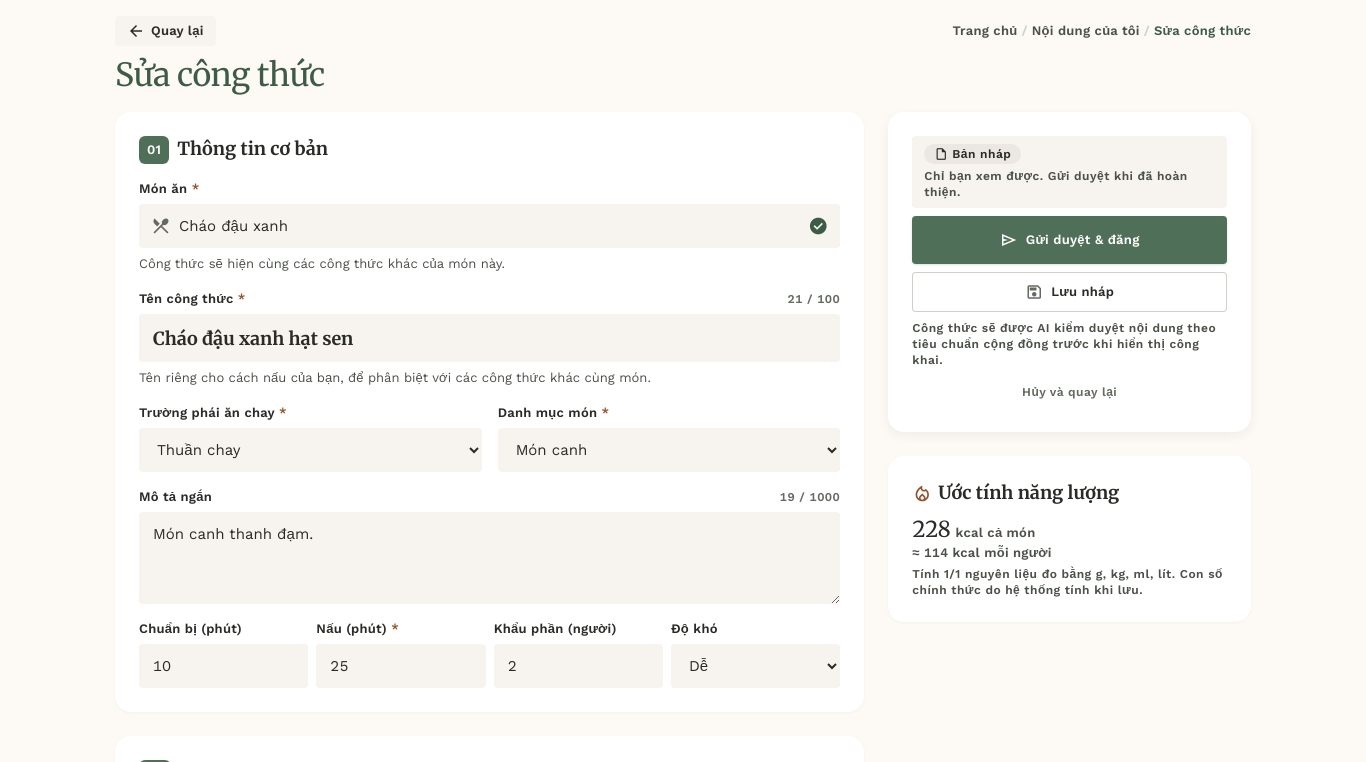
RecipeEditor — chế độ sửa (/recipes/:id/edit) › Thành viên › bản nháp: điền sẵn form, có Gửi duyệt và Lưu nháp; lưu nháp chỉ gửi trường đã đổi
This screenshot has width=1366, height=762.
Check: the dropdown labelled "Trường phái ăn chay *" shows "Thuần chay", box [139,428,482,472]
Check: the dropdown labelled "Danh mục món *" shows "Món canh", box [498,428,840,472]
Replace the text in the field labelled "Tên công thức *" with "Cháo đậu xanh hạt sen nước cốt dừa" at (490, 338), box [139,314,840,362]
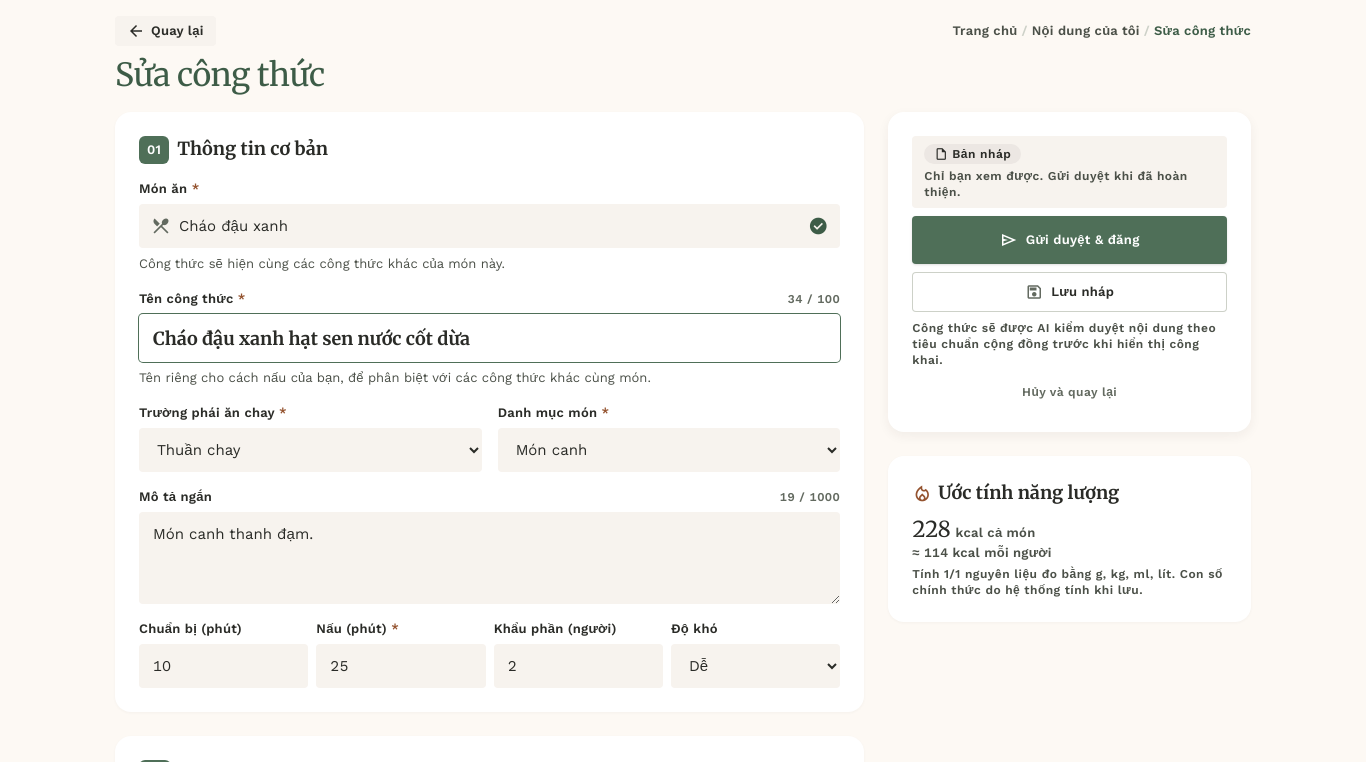
Click the button "Lưu nháp" at (1070, 292), box [912,272,1227,312]
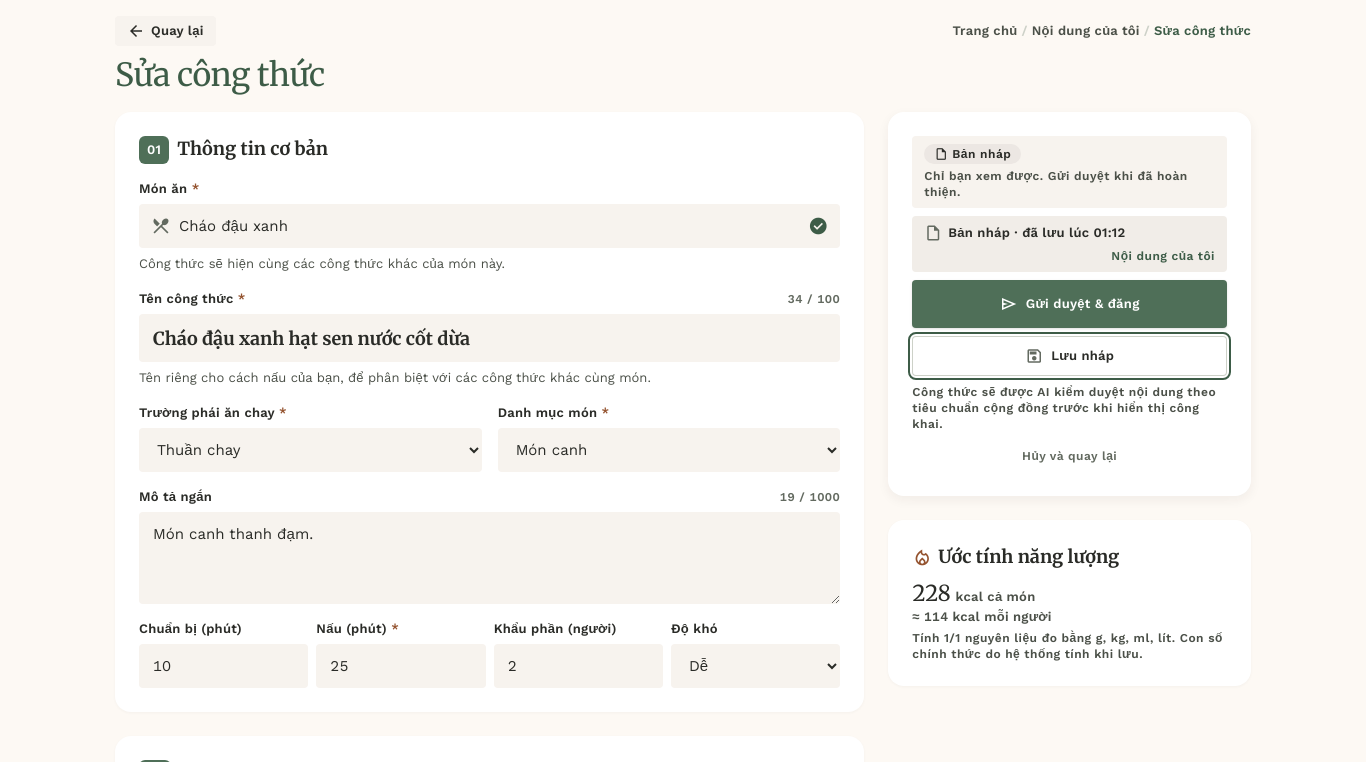
Check: the text "Bản nháp · đã lưu lúc 01:12 Nội dung của tôi" is shown, box [912,216,1227,272]
